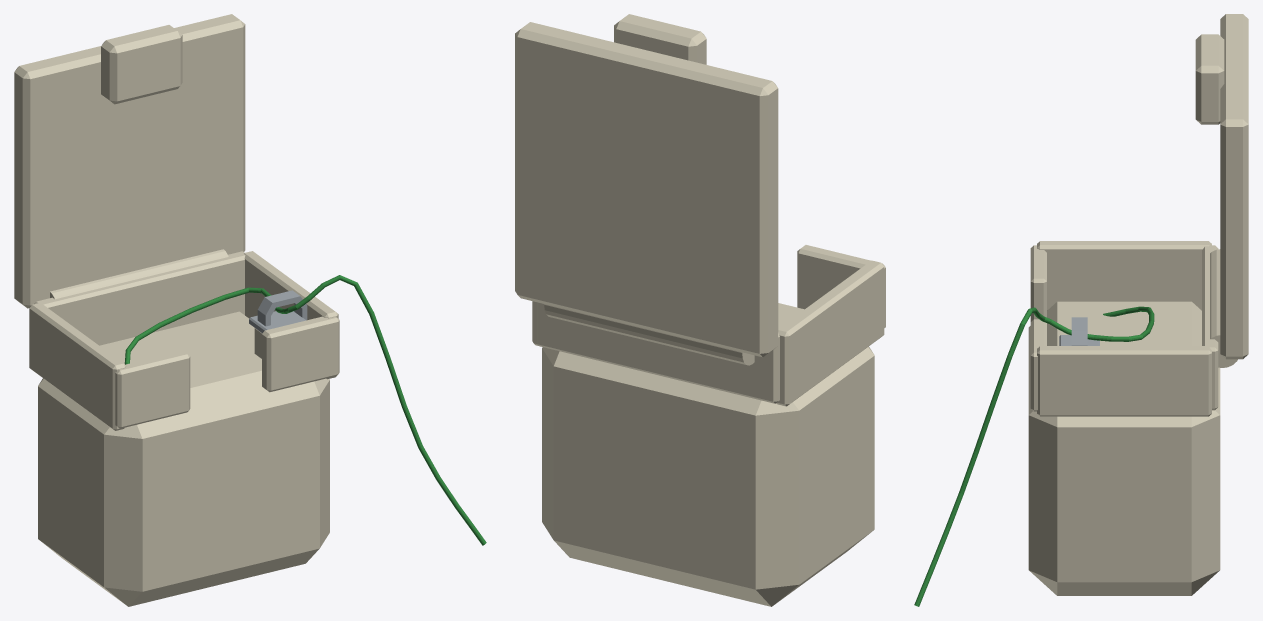
Rendered from full.glb.
3 views of the same model, side by side, from view 1: azimuth 30°, elevation 25°; view 2: azimuth 150°, elevation 25°; view 3: azimuth 270°, elevation 25° (orthographic). The views are drawn at different scales.
Parts seen in each view (by area): view 1: Rounded dispenser body, Upright opened lid, Recess rear wall, Recess sidewall -1, Lid central latch tongue, Notched front rim 1, Notched front rim -1, Single visible floss strand, Recess sidewall 1, Broad hinge barrel, Raised curved cutter tab; view 2: Upright opened lid, Rounded dispenser body, Recess sidewall -1, Recess rear wall, Lid central latch tongue, Notched front rim -1, Broad hinge barrel; view 3: Rounded dispenser body, Recess sidewall 1, Upright opened lid, Recess sidewall -1, Single visible floss strand, Lid central latch tongue, Recess rear wall, Broad hinge barrel, Notched front rim -1, Notched front rim 1, Raised curved cutter tab.
Part boxes in pixels (bbox=[...]): Rounded dispenser body: bbox=[38, 311, 329, 606]; Upright opened lid: bbox=[14, 14, 245, 308]; Recess rear wall: bbox=[34, 251, 245, 345]; Recess sidewall -1: bbox=[29, 302, 126, 430]; Lid central latch tongue: bbox=[101, 25, 182, 104]; Notched front rim 1: bbox=[262, 316, 339, 392]; Notched front rim -1: bbox=[115, 350, 190, 428]; Single visible floss strand: bbox=[124, 275, 486, 545]; Recess sidewall 1: bbox=[244, 251, 338, 379]; Broad hinge barrel: bbox=[50, 249, 228, 299]; Raised curved cutter tab: bbox=[257, 290, 307, 326]; Upright opened lid: bbox=[515, 22, 778, 357]; Rounded dispenser body: bbox=[542, 303, 874, 606]; Recess sidewall -1: bbox=[776, 260, 884, 406]; Recess rear wall: bbox=[537, 302, 779, 403]; Lid central latch tongue: bbox=[614, 14, 706, 64]; Notched front rim -1: bbox=[797, 245, 885, 327]; Broad hinge barrel: bbox=[544, 304, 754, 365]; Rounded dispenser body: bbox=[1028, 301, 1220, 595]; Recess sidewall 1: bbox=[1037, 346, 1211, 416]; Upright opened lid: bbox=[1220, 14, 1248, 359]; Recess sidewall -1: bbox=[1037, 241, 1211, 310]; Single visible floss strand: bbox=[914, 306, 1154, 606]; Lid central latch tongue: bbox=[1195, 34, 1224, 124]; Recess rear wall: bbox=[1202, 245, 1218, 410]; Broad hinge barrel: bbox=[1210, 249, 1237, 367]; Notched front rim -1: bbox=[1030, 245, 1046, 321]; Notched front rim 1: bbox=[1030, 319, 1046, 411]; Raised curved cutter tab: bbox=[1071, 317, 1087, 345].
Bounding box in the file's own units: 0.0901 × 0.136 × 0.0821.
